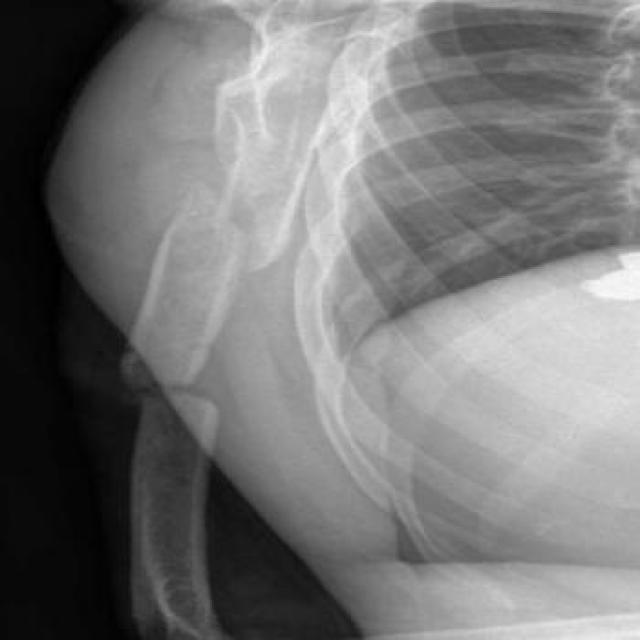Fracture: (108, 350, 250, 422)
